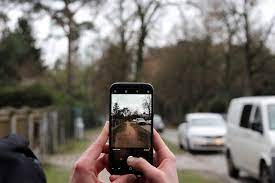Smart Phone: (107, 79, 155, 177)
